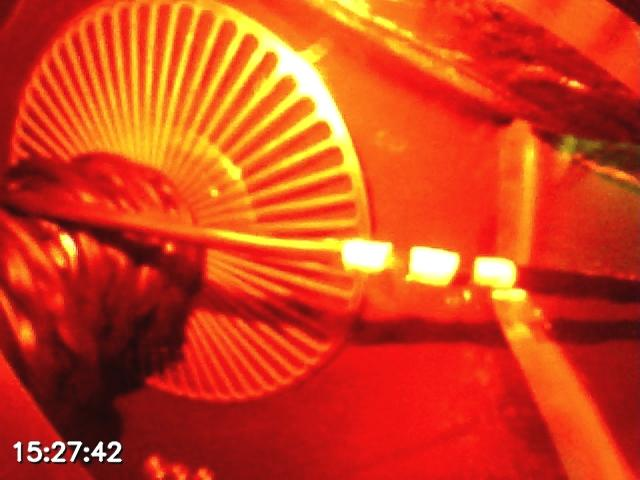white-dots: (340, 237, 516, 290)
